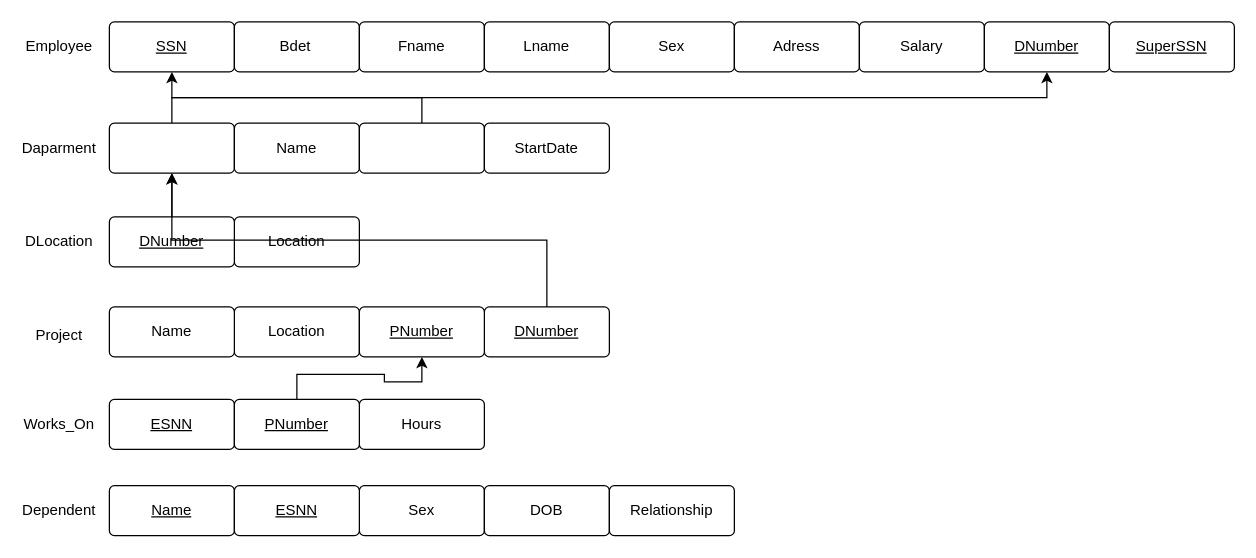
The diagram is 1256 pixels wide and 558 high, and some of its shapes have lost their labels. Here are the shapes that lost their labels. From the top down, the box of each, then its label:
(108, 122, 234, 173): Number
(358, 122, 484, 173): Manger_SSN
